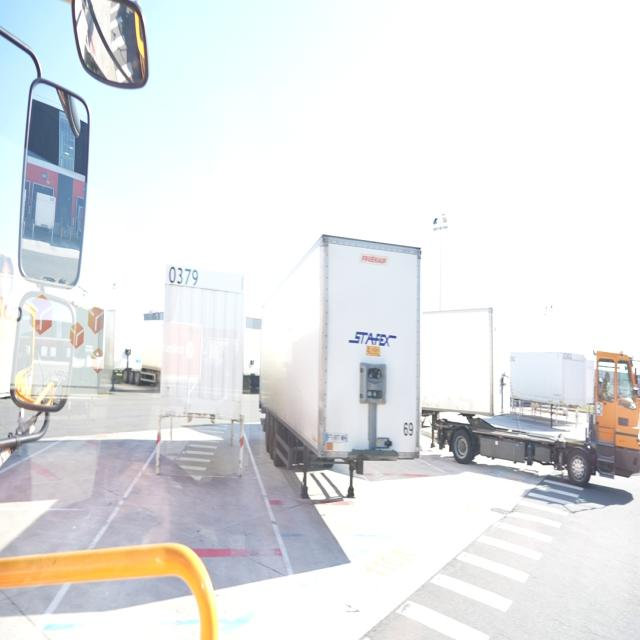Code: (166, 258, 200, 295)
